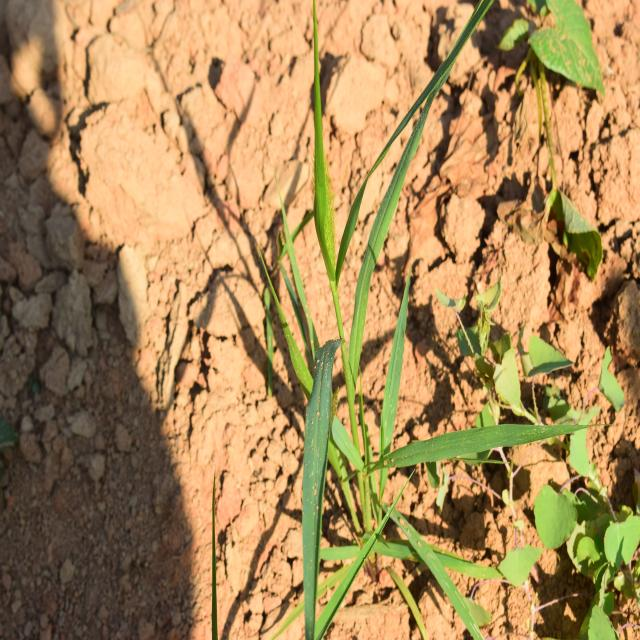green_foxtail: (217, 55, 496, 579)
